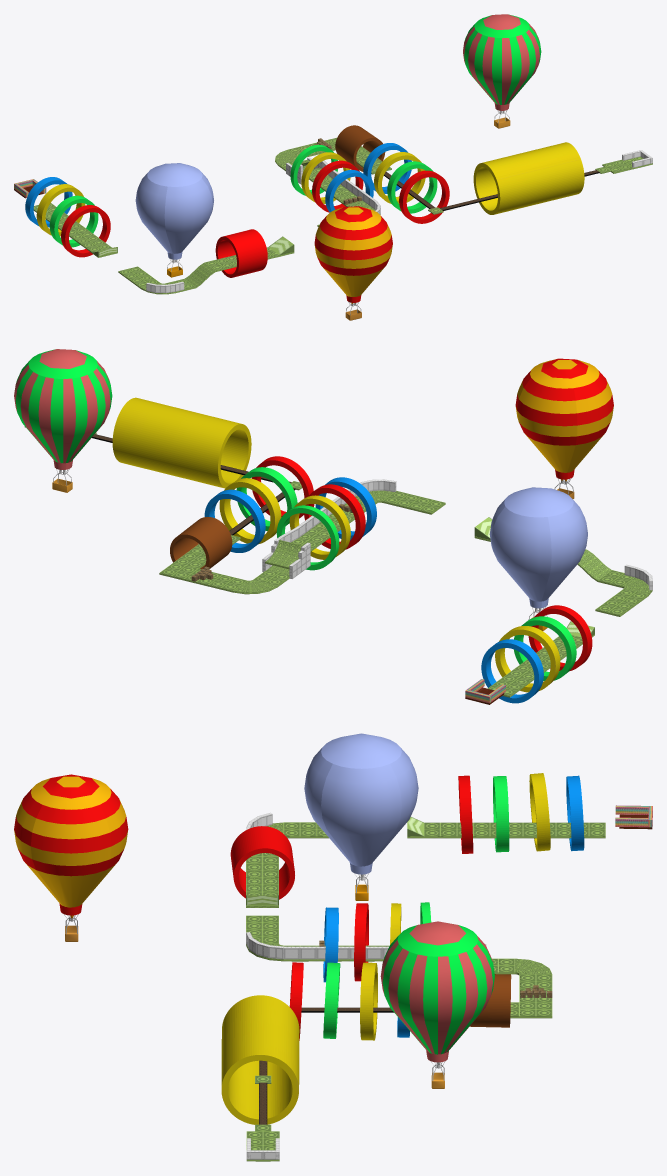
The model's file is LEVEL 6.fbx.
The picture shows the model from 3 angles, top to bottom: view 1: azimuth 30°, elevation 25°; view 2: azimuth 150°, elevation 25°; view 3: azimuth 270°, elevation 25°; orthographic projection. The views are drawn at different scales.
Visible parts, largest first — view 1: yellow_ring__3_, ballon_1, ballon, ballon_2, red_ring, orange_ring, red_ring__3_, green_ring__2_, red_ring__1_, yellow_ring__2_, green_ring, yellow_ring (+6 smaller); view 2: yellow_ring__3_, ballon_1, ballon, ballon_2, orange_ring, yellow_ring__2_, blue_ring, yellow_ring, blue_ring__2_, green_ring, yellow_ring__1_, red_ring__1_ (+7 smaller); view 3: ballon_2, ballon_1, ballon, yellow_ring__3_, red_ring, orange_ring, yellow_ring__2_, yellow_ring, green_ring, blue_ring, green_ring__2_, red_ring__2_ (+3 smaller).
Part boxes in pixels (x1,y1,x2,y2): yellow_ring__3_: (473, 142, 584, 214); ballon_1: (463, 14, 541, 128); ballon: (314, 206, 392, 320); ballon_2: (135, 163, 213, 277); red_ring: (215, 229, 267, 277); orange_ring: (335, 125, 385, 171); red_ring__3_: (399, 170, 449, 223); green_ring__2_: (387, 161, 437, 213); red_ring__1_: (61, 205, 110, 257); yellow_ring__2_: (374, 152, 425, 203); green_ring: (49, 195, 98, 247); yellow_ring: (36, 184, 85, 236); yellow_ring__3_: (112, 397, 251, 488); ballon_1: (14, 349, 112, 492); ballon: (515, 358, 613, 498); ballon_2: (489, 487, 587, 630); orange_ring: (170, 517, 232, 569); yellow_ring__2_: (219, 478, 281, 544); blue_ring: (481, 639, 543, 703); yellow_ring: (495, 626, 560, 692); blue_ring__2_: (204, 489, 265, 552); green_ring: (513, 616, 576, 680); yellow_ring__1_: (289, 495, 350, 559); red_ring__1_: (528, 605, 592, 671); ballon_2: (304, 733, 418, 900); ballon_1: (380, 921, 494, 1088); ballon: (14, 774, 128, 941); yellow_ring__3_: (221, 995, 299, 1124); red_ring: (230, 826, 294, 899); orange_ring: (470, 974, 511, 1027); yellow_ring__2_: (360, 962, 377, 1040); yellow_ring: (529, 773, 550, 851); green_ring: (493, 776, 509, 852); blue_ring: (566, 775, 584, 851); green_ring__2_: (323, 962, 340, 1038); red_ring__2_: (354, 903, 368, 981).
Size of the model in its own units: 10480 by 2937 by 7737.
Materials: 26 (12 with a texture image).
